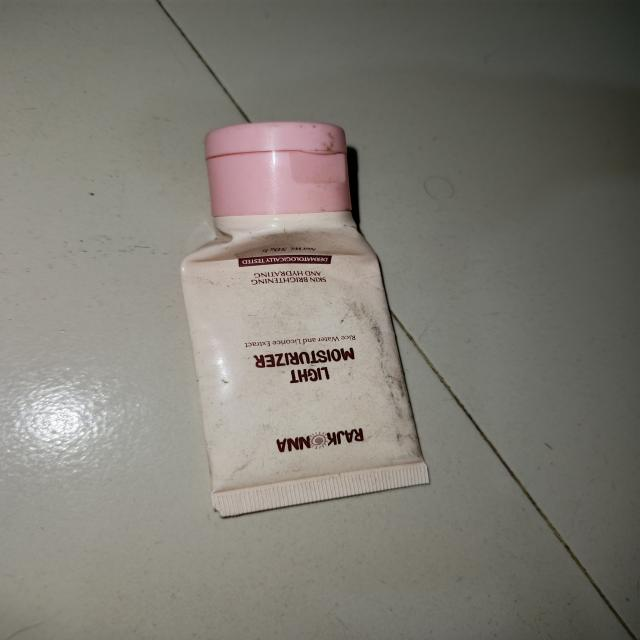Squeeze Tube: (149, 112, 440, 524)
